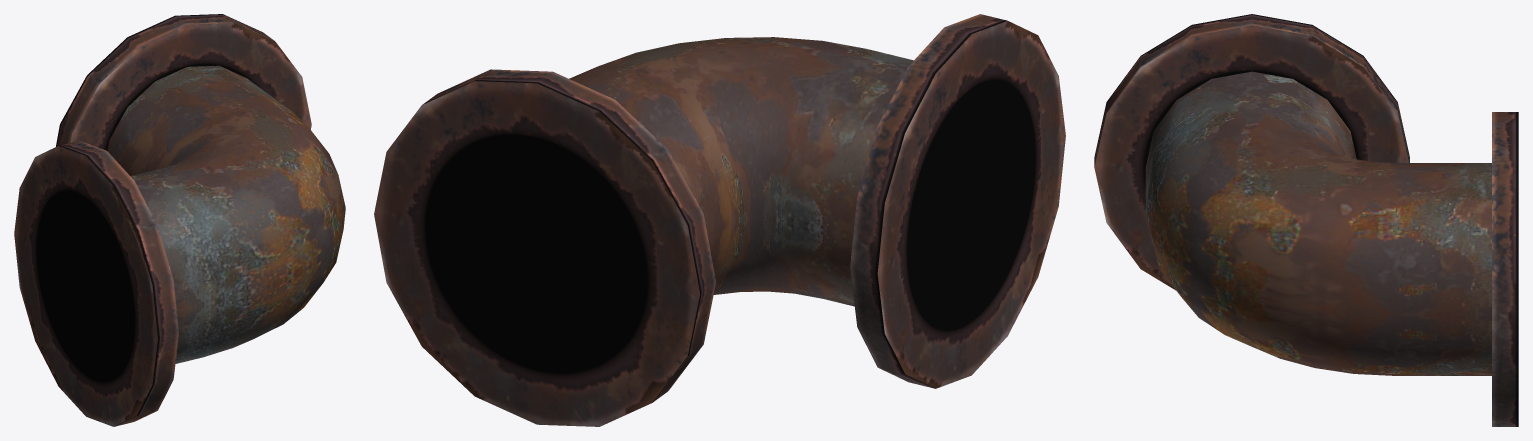
Rendered from pipe03_L.fbx.
3 views of the same model, side by side, from view 1: azimuth 30°, elevation 25°; view 2: azimuth 150°, elevation 25°; view 3: azimuth 270°, elevation 25° (orthographic). The views are drawn at different scales.
Parts seen in each view (by area): view 1: pipe03_L; view 2: pipe03_L; view 3: pipe03_L.
Part boxes in pixels (x1,y1,x2,y2): pipe03_L: (14,14,345,426); pipe03_L: (374,14,1065,426); pipe03_L: (1094,14,1518,426).
Bounding box in the file's own units: 79.6 × 59.2 × 79.6.
